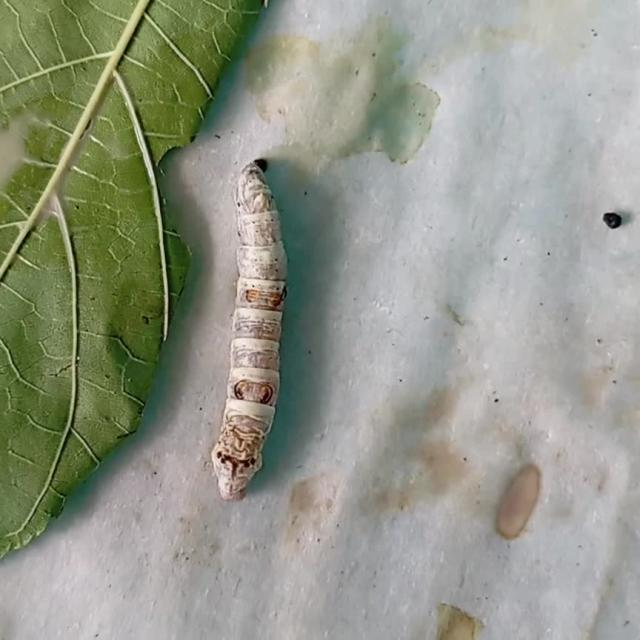Grasserie: (190, 134, 319, 510)
